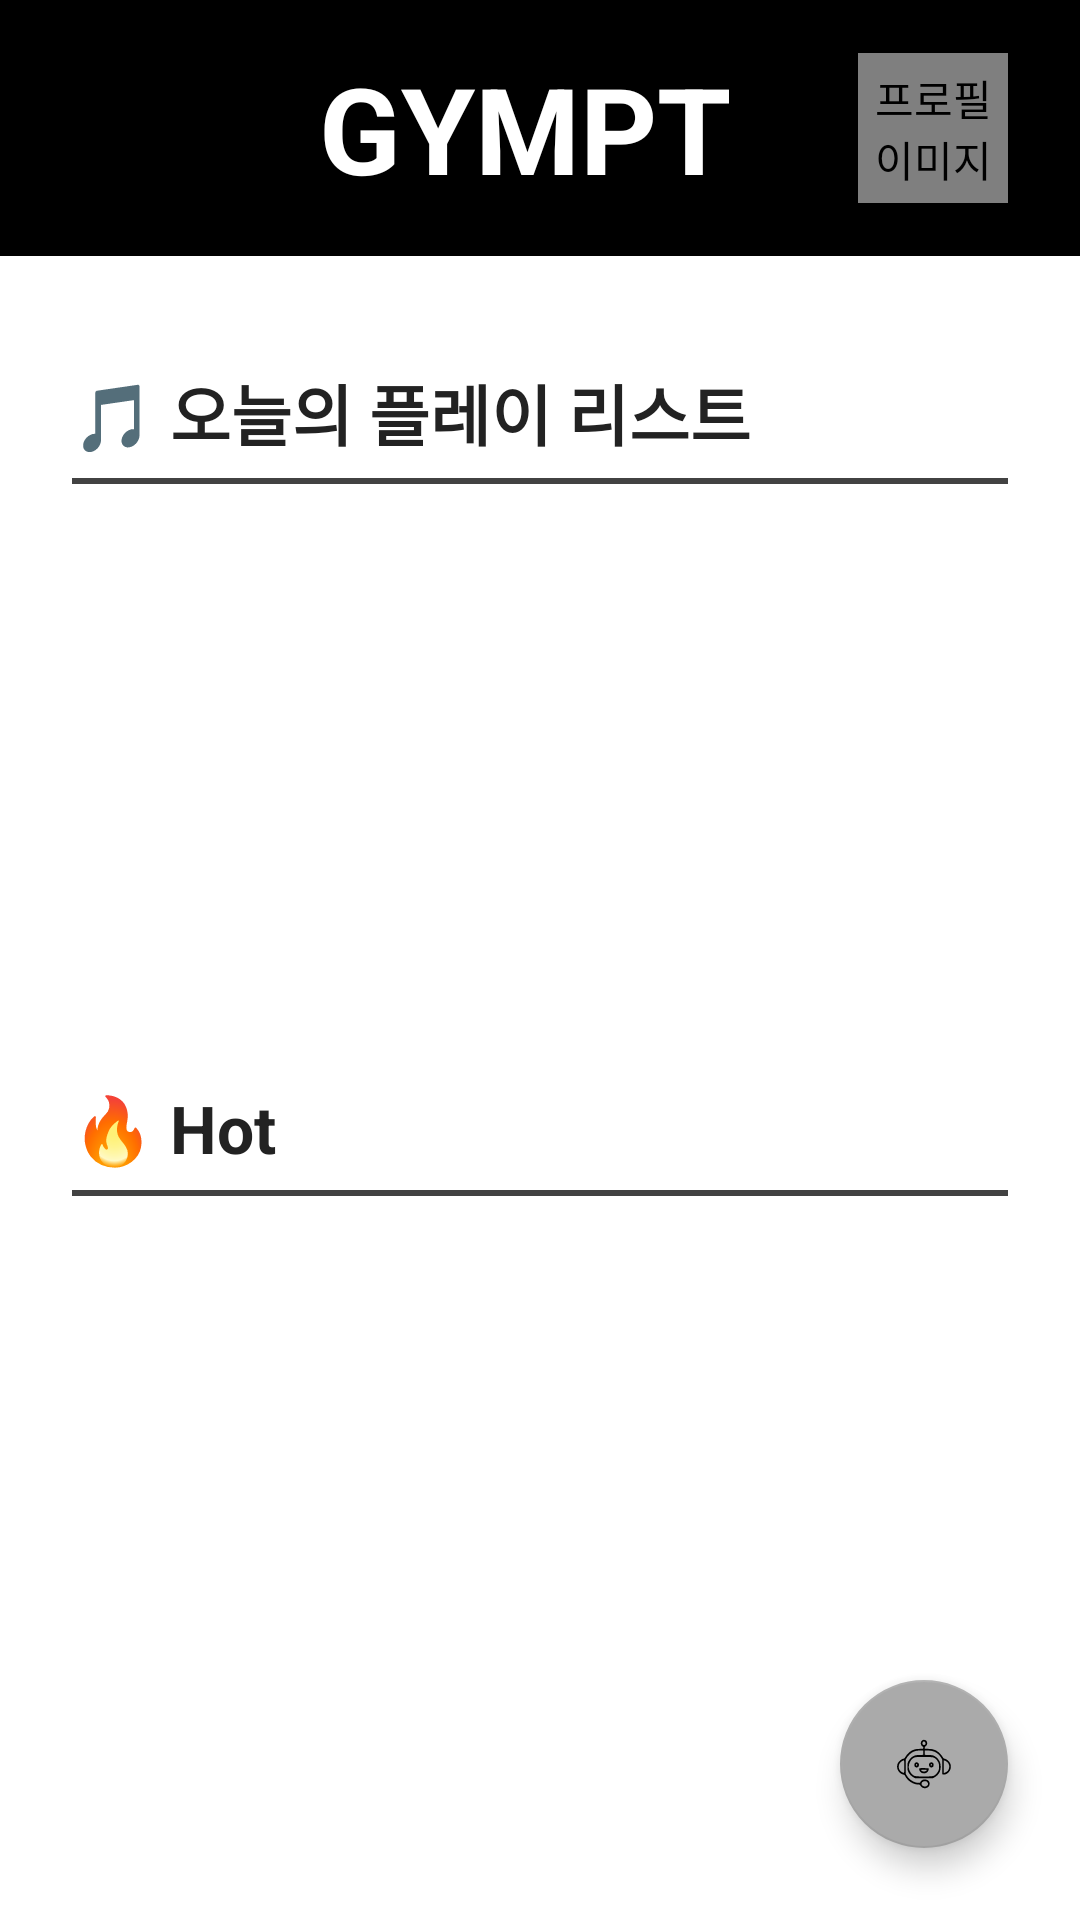

Icons on this 1080px×1920px Android screen, each with its box as (x1, y1, x2, y2):
chat bot: (840, 1680, 1008, 1848)
